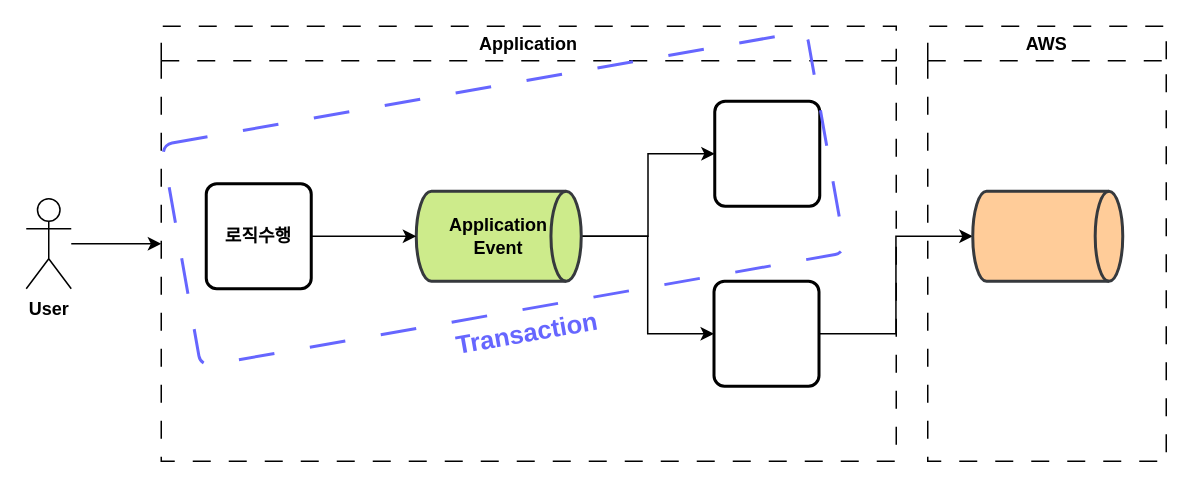
Some shapes in this 1193 by 488 pixel diagram are drawn without their labels. The centre of each missing label's shape, as x and y in pixels:
"SNS" goes at (1047,235).
"SNS 메시지 전송" goes at (766,333).
"이벤트 저장" goes at (766,153).
